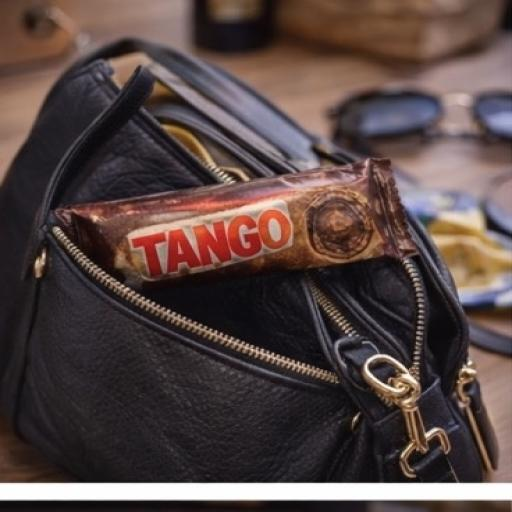tango: (47, 144, 450, 326)
